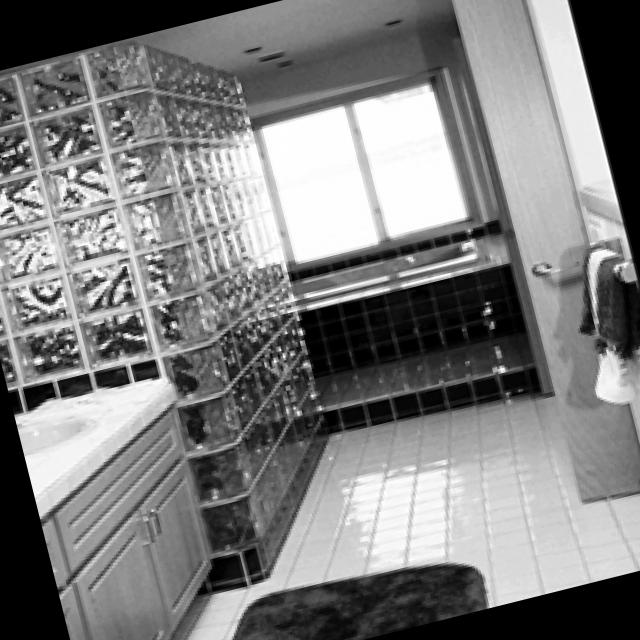2001: (254, 64, 489, 268)
cabinet door: (46, 407, 216, 640)
ceiling beam: (141, 0, 463, 96), (155, 0, 457, 78)
counter bottom: (20, 379, 179, 515)
door bars: (457, 0, 640, 502)
door mat: (522, 255, 580, 272)
floor -X: (171, 390, 640, 640), (171, 391, 640, 640)
rug -partially obscured-: (236, 561, 488, 640)
shower crop: (0, 36, 325, 548)
sink basin: (23, 413, 91, 452), (24, 413, 88, 449)
towels: (583, 240, 640, 402)
